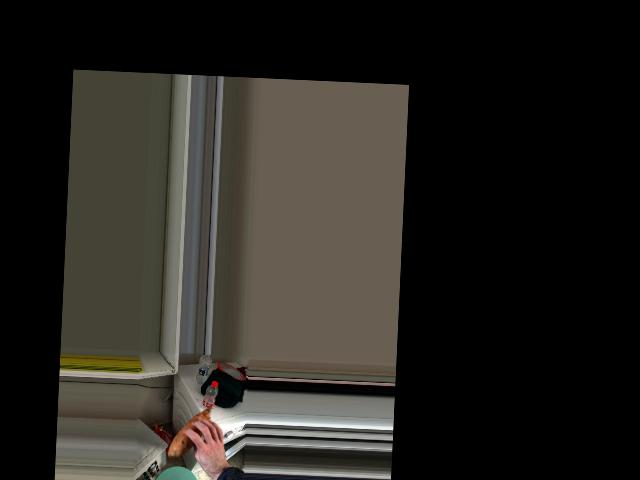sweet_potato: (169, 408, 222, 452)
